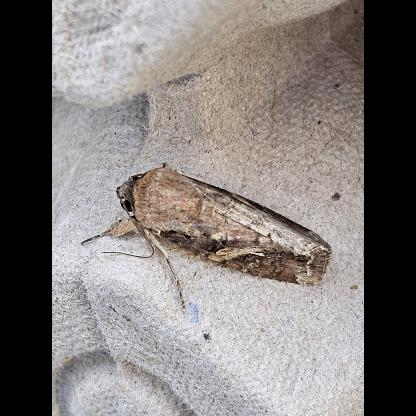Fall Armyworm Moth: (78, 158, 336, 316)
